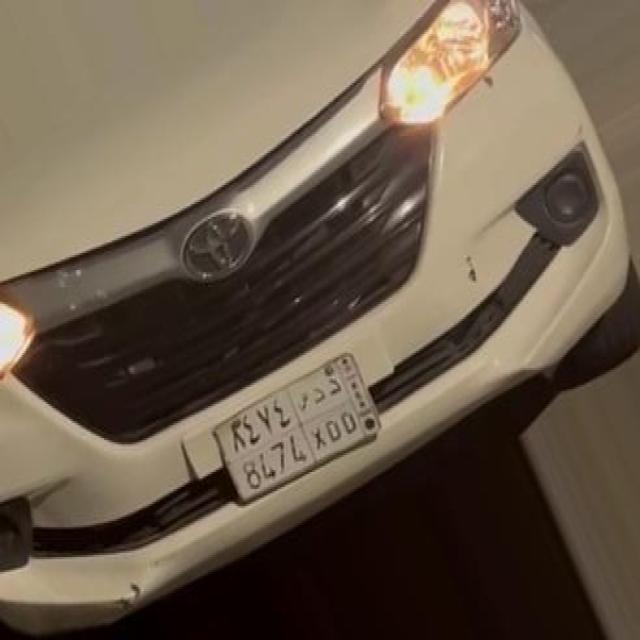Car-plate: (192, 334, 400, 541)
